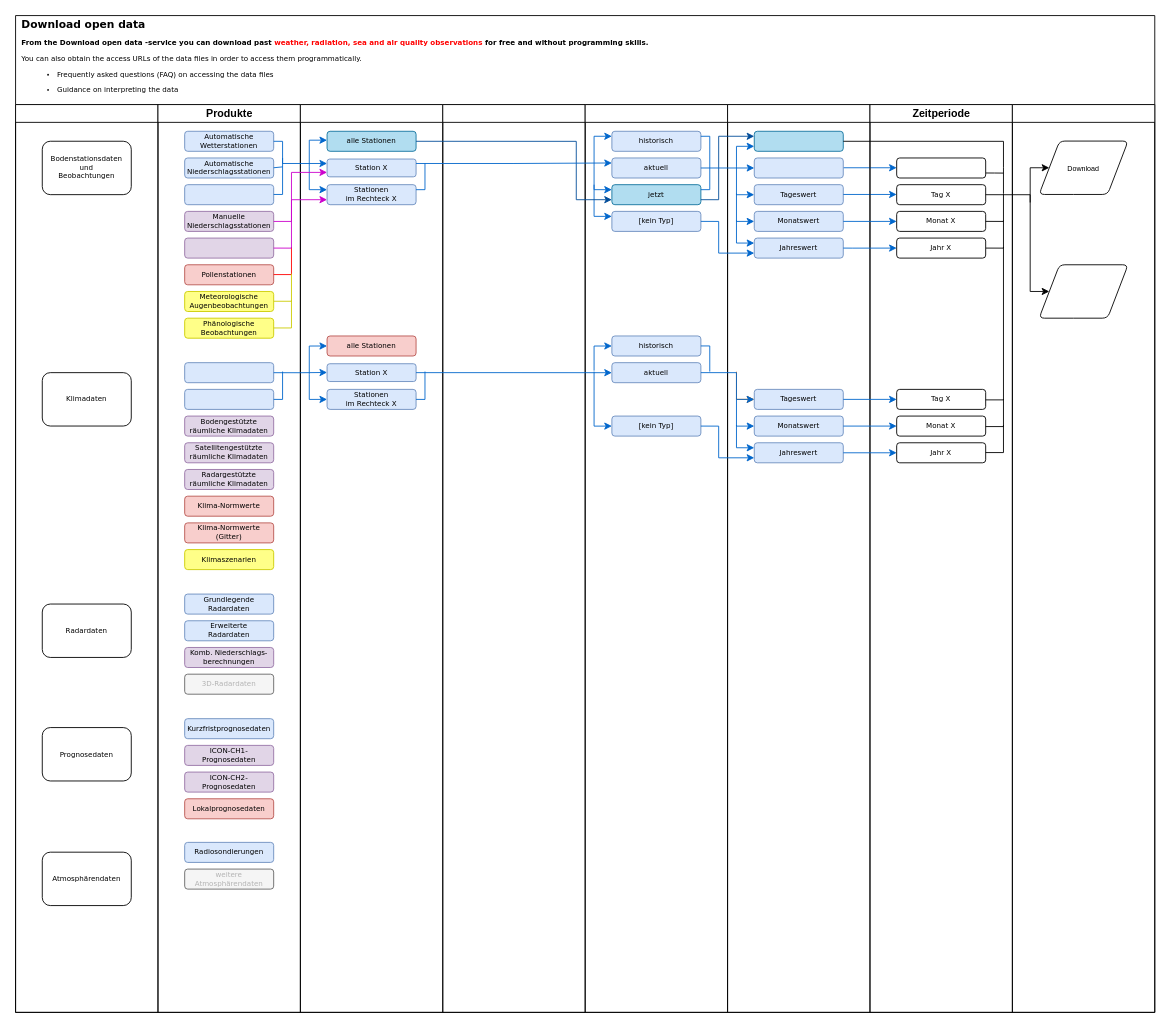
The diagram is 1170 pixels wide and 1028 high, and some of its shapes have lost their labels. The box of each missing label's shape, as (x1, y1, x2, y2) in pixels:
10min-Wert: (753, 130, 843, 151)
Access URL: (1038, 264, 1128, 318)
Aktualisierungszyklus: (584, 104, 728, 1012)
Automatische Grenzschichtstationen: (184, 184, 274, 205)
Datenbezug: (1011, 104, 1155, 1012)
Klimastationen: (184, 362, 274, 383)
Niederschlags-Klimastationen: (184, 388, 274, 409)
Parameter: (442, 104, 585, 1012)
Raumbezug: (299, 104, 443, 1012)
Stunde X: (896, 157, 986, 178)
Stundenwert: (753, 157, 843, 178)
Totalisator- Niederschlagsstationen: (184, 237, 274, 258)
Wähle Datentyp: (15, 104, 158, 1012)
Zeitinterval: (727, 104, 870, 1012)
